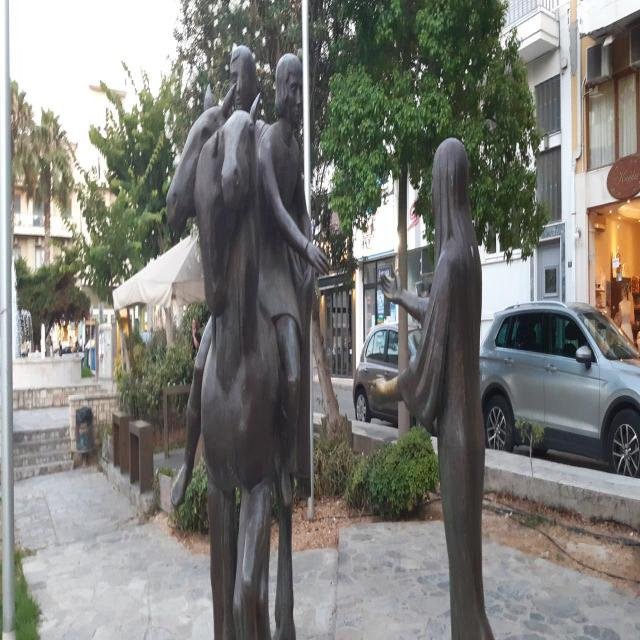Aretousa: (167, 47, 495, 640)
